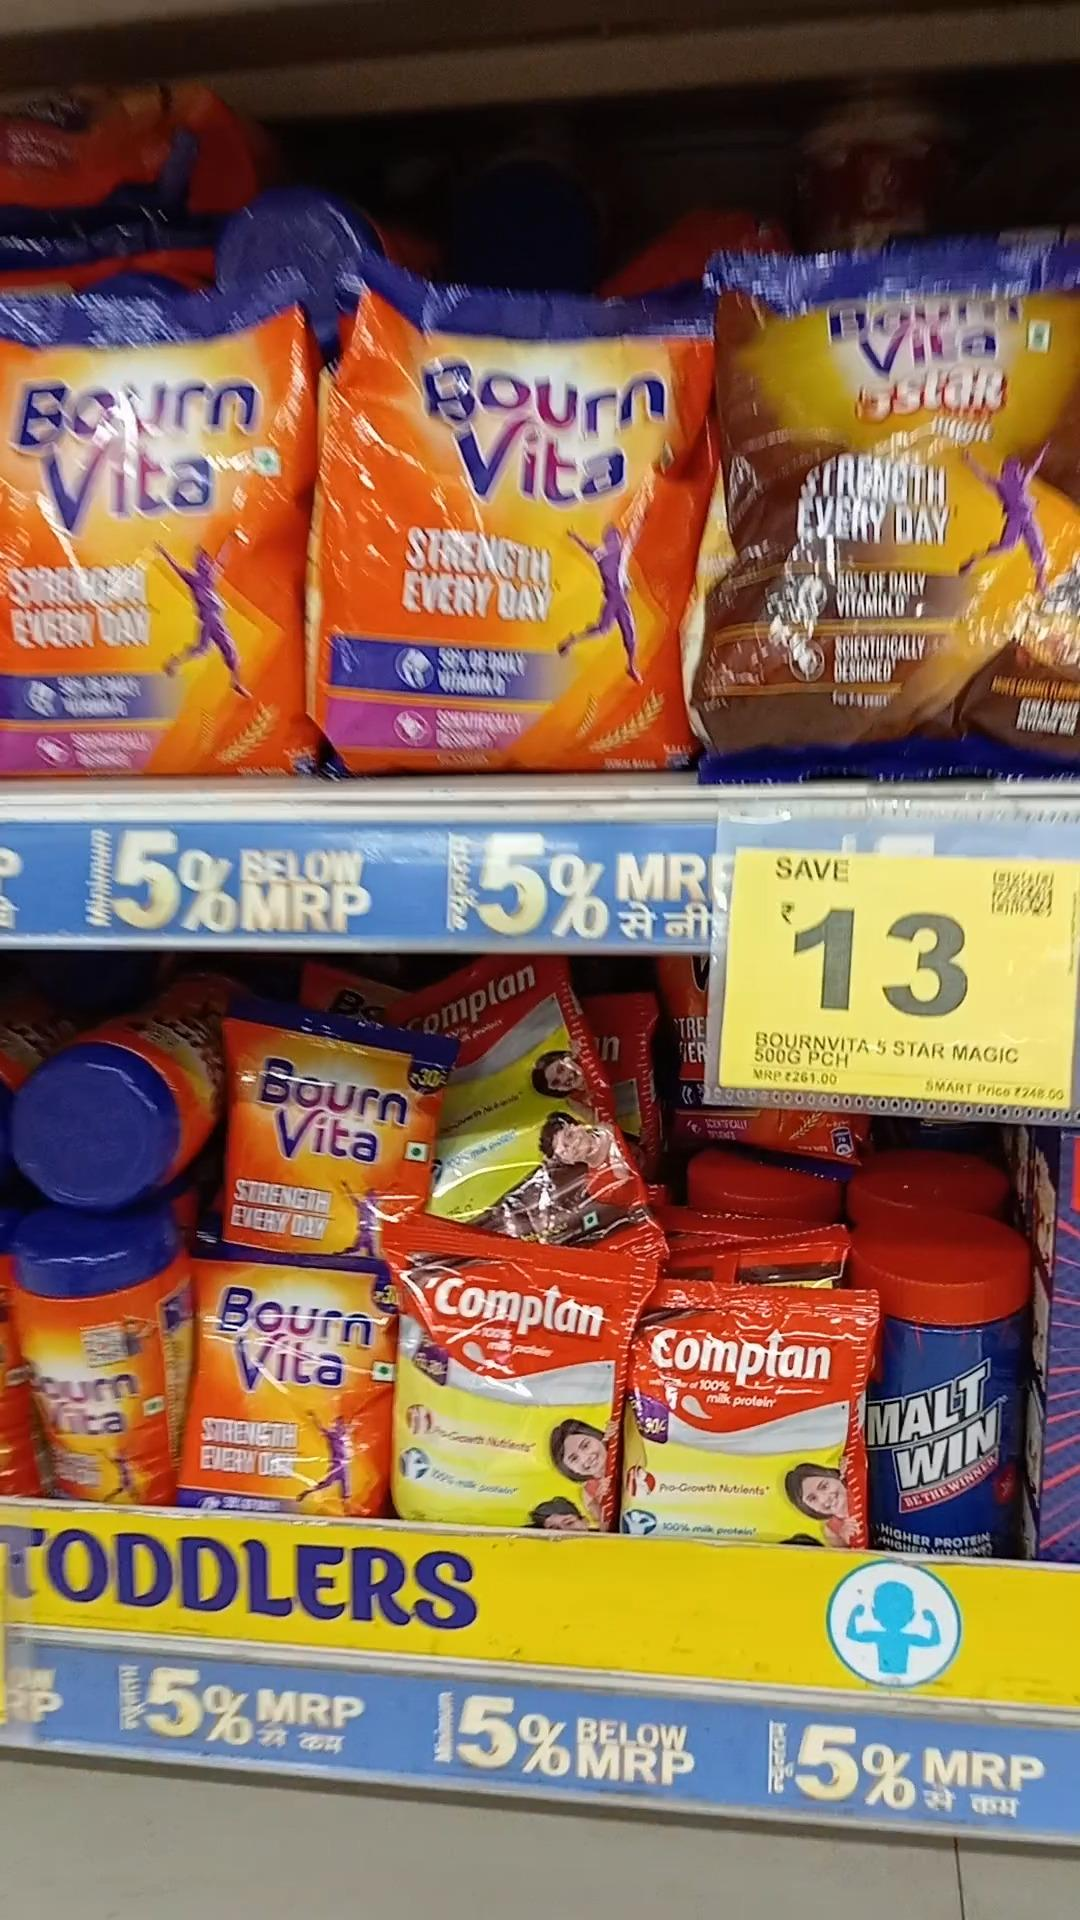BOURN_VITA_500_G_POUCH: (330, 256, 682, 767), (0, 284, 295, 781)
BOURN_VITA_75_G_POUCH: (196, 1251, 385, 1505), (231, 1021, 430, 1221)
BOURN_VITA_FIVE_STAR_MAGIC_500_G_POUCH: (727, 248, 1080, 754)
